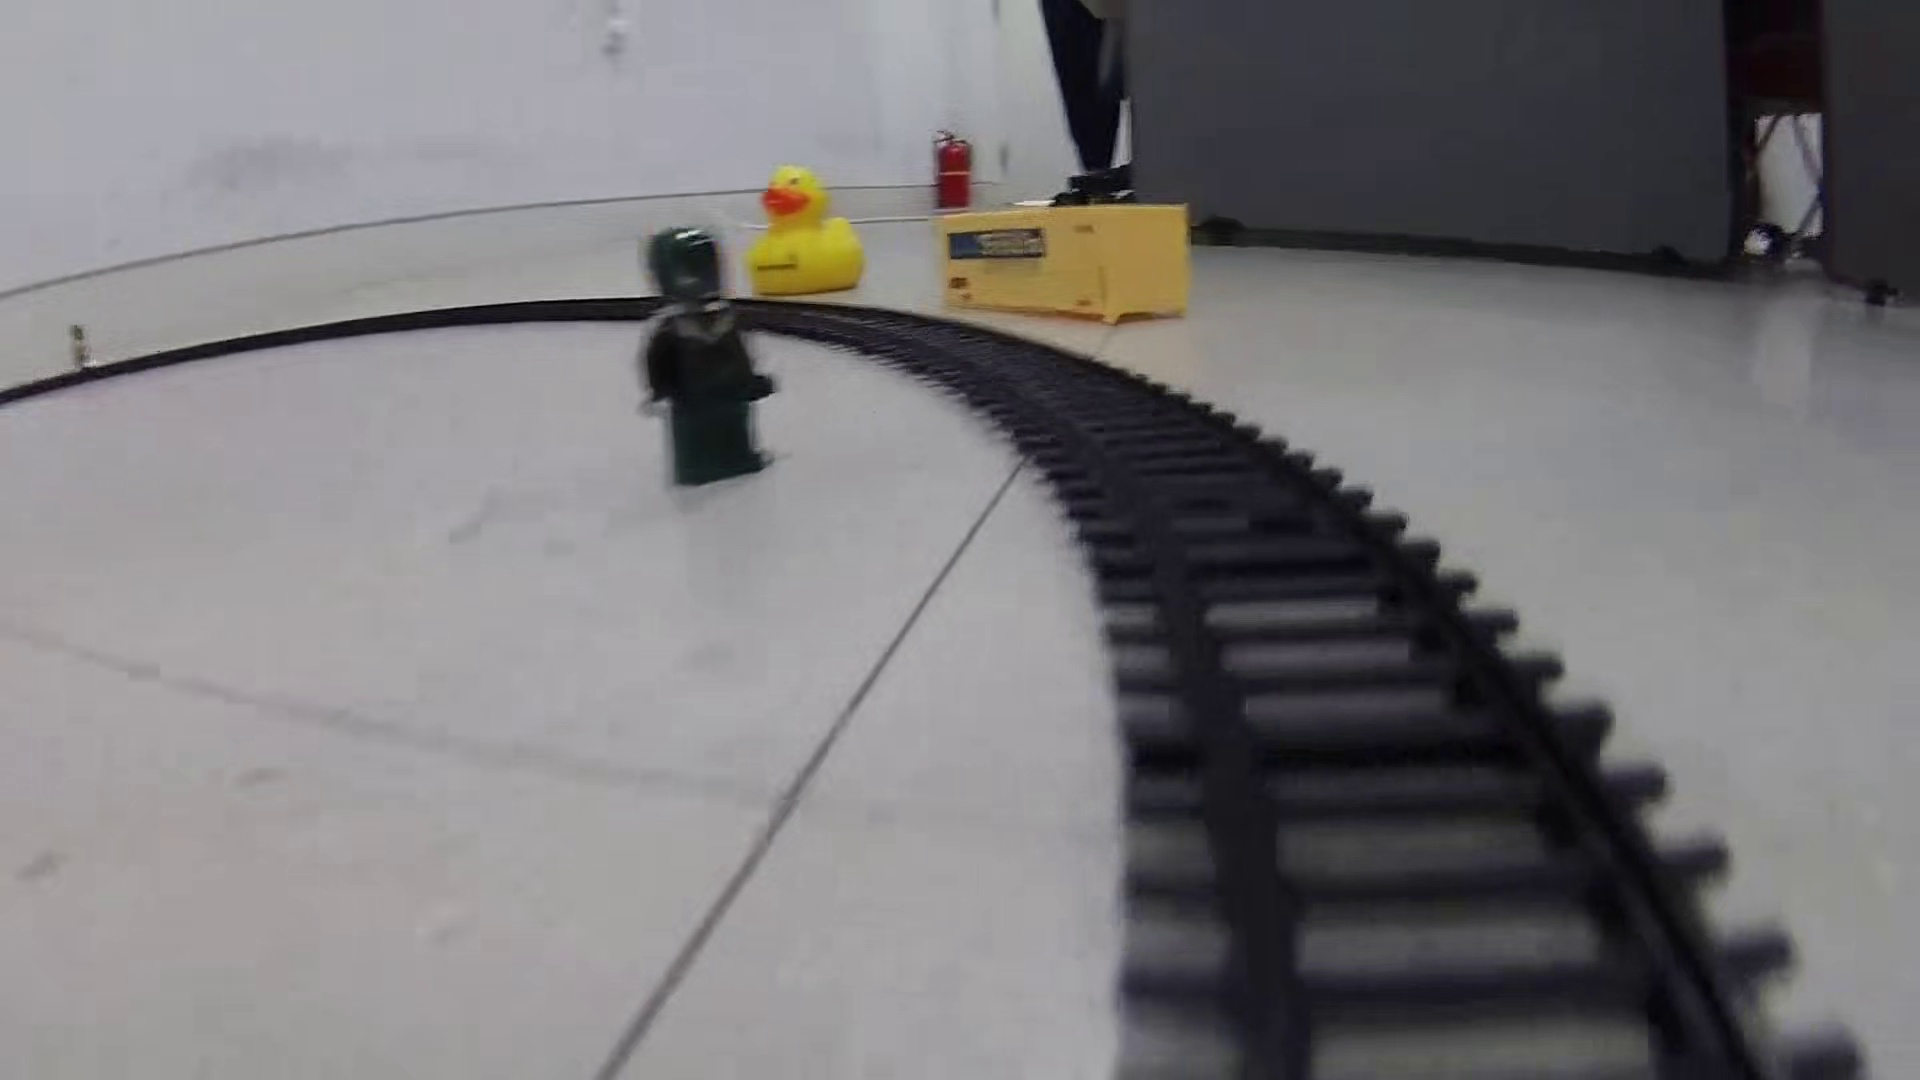people: (633, 225, 781, 492)
